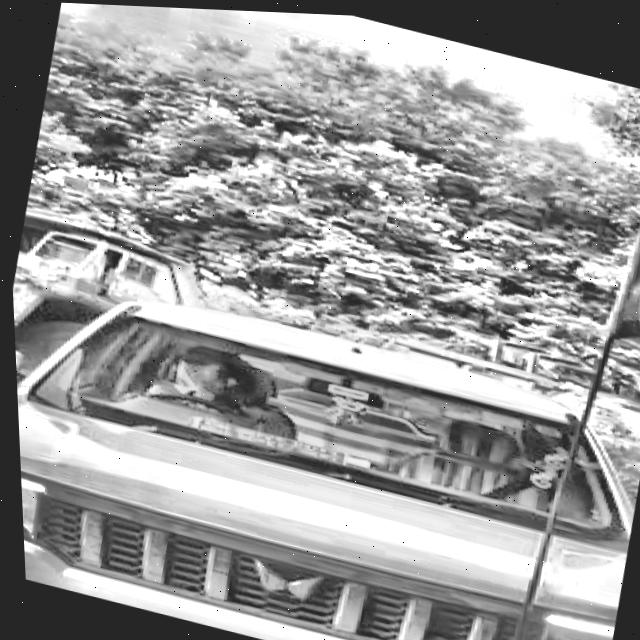light_vehicle: (9, 249, 640, 640)
